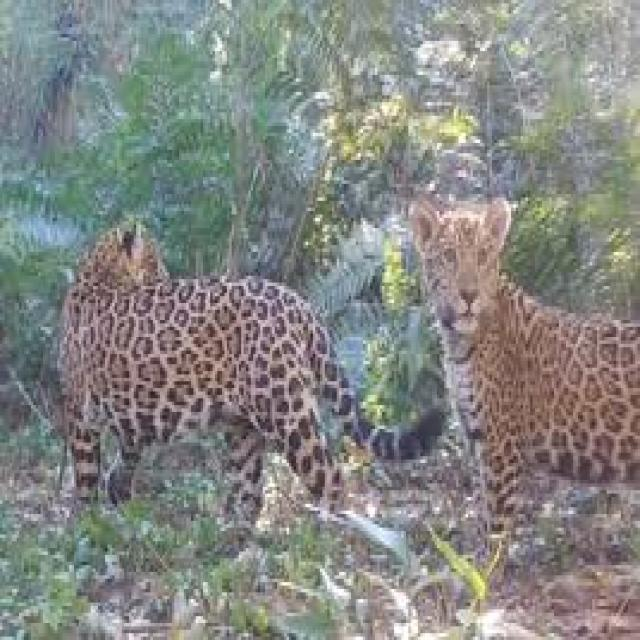Jaguar: (55, 225, 454, 538), (406, 197, 640, 589)
